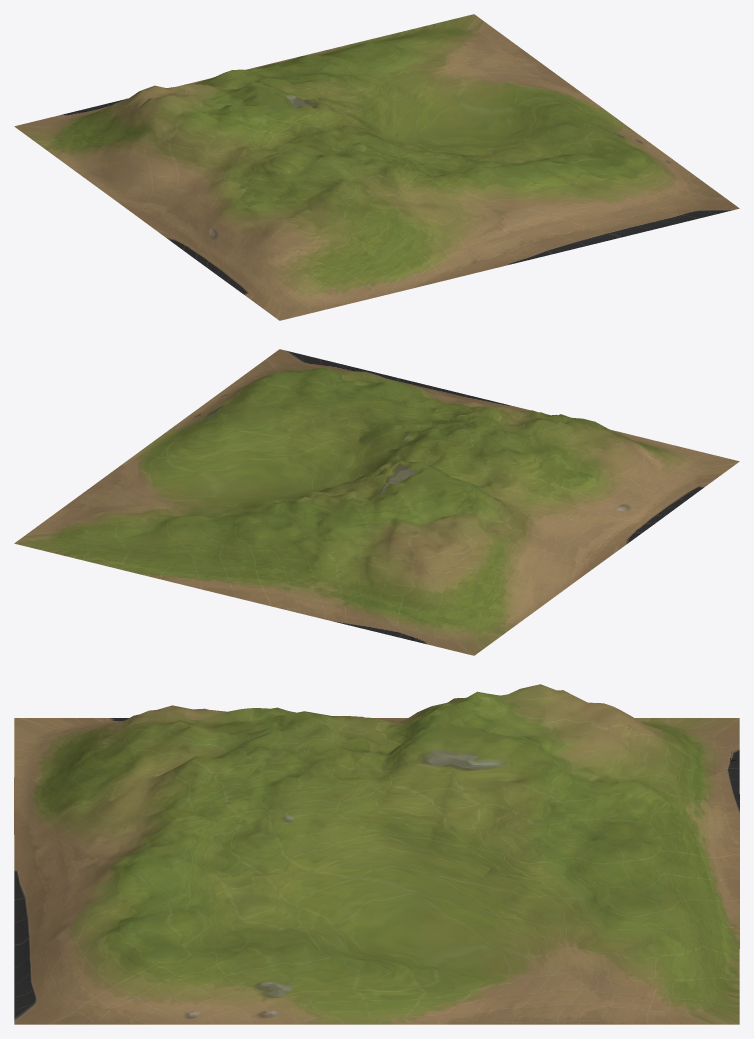
Rendered from テクスチャ.glb.
3 renders of one model, top to bottom at view 1: azimuth 30°, elevation 25°; view 2: azimuth 150°, elevation 25°; view 3: azimuth 270°, elevation 25°, orthographic. The views are drawn at different scales.
Parts seen in each view (by area): view 1: Landscape; view 2: Landscape; view 3: Landscape.
Boxes of the visible parts, bbox=[...] form: Landscape: bbox=[14, 14, 739, 320]; Landscape: bbox=[14, 349, 739, 655]; Landscape: bbox=[14, 684, 739, 1024].
Bounding box in the file's own units: 64.03 × 8.53 × 64.04.
1 material, 1 textured.
